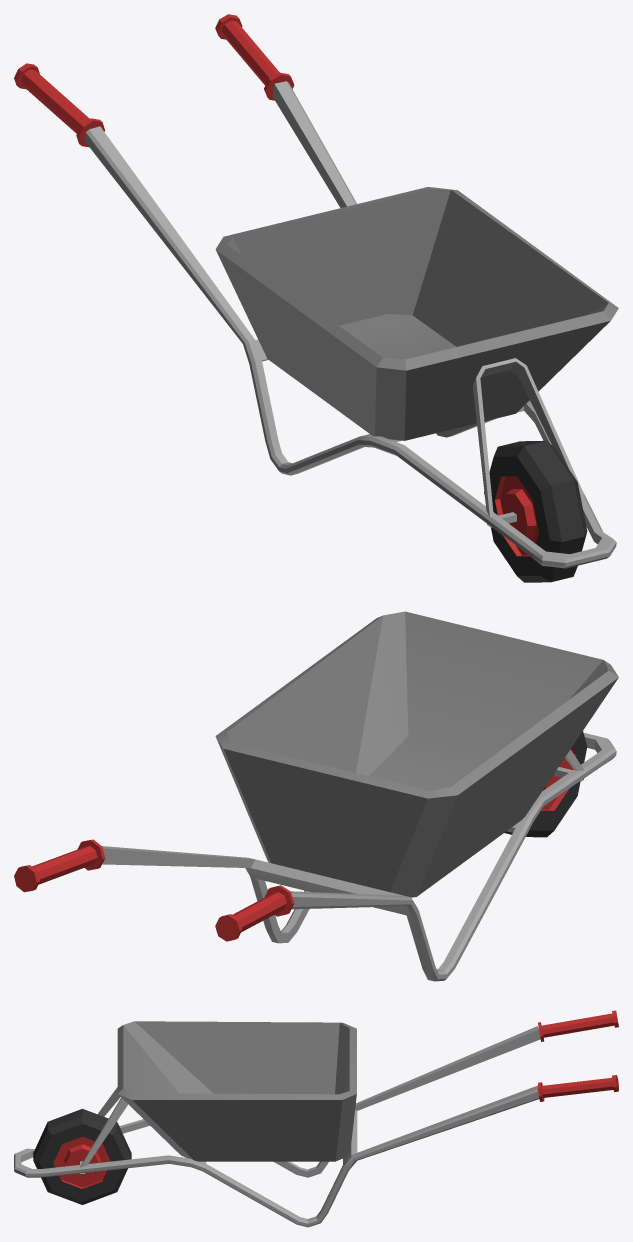
File: Whelbarrow.fbx
3 views of the same model, one above another, from view 1: azimuth 30°, elevation 25°; view 2: azimuth 150°, elevation 25°; view 3: azimuth 270°, elevation 25° (orthographic). The views are drawn at different scales.
Parts seen in each view (by area): view 1: isl_Wheelbarrow_01_DEF.obj; view 2: isl_Wheelbarrow_01_DEF.obj; view 3: isl_Wheelbarrow_01_DEF.obj.
Part boxes in pixels (x1,y1,x2,y2): isl_Wheelbarrow_01_DEF.obj: (14, 14, 618, 582); isl_Wheelbarrow_01_DEF.obj: (14, 611, 618, 981); isl_Wheelbarrow_01_DEF.obj: (14, 1010, 618, 1227).
Bounding box in the file's own units: 65 × 62.15 × 215.
